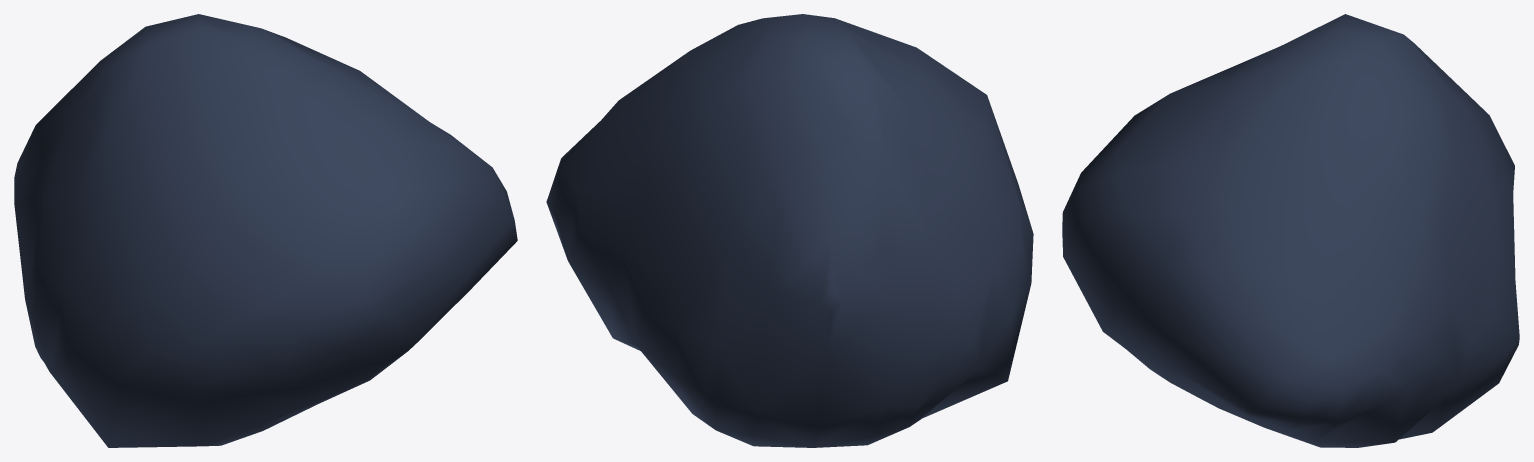
The model's file is Rock_10.fbx.
3 views of the same model, side by side, from view 1: azimuth 30°, elevation 25°; view 2: azimuth 150°, elevation 25°; view 3: azimuth 270°, elevation 25° (orthographic).
Parts seen in each view (by area): view 1: Rock 10; view 2: Rock 10; view 3: Rock 10.
Part boxes in pixels (left/top/right/bottom): Rock 10: left=14, top=14, right=517, bottom=447; Rock 10: left=546, top=14, right=1033, bottom=447; Rock 10: left=1062, top=14, right=1519, bottom=447.
Bounding box in the file's own units: 160 × 133 × 141.
